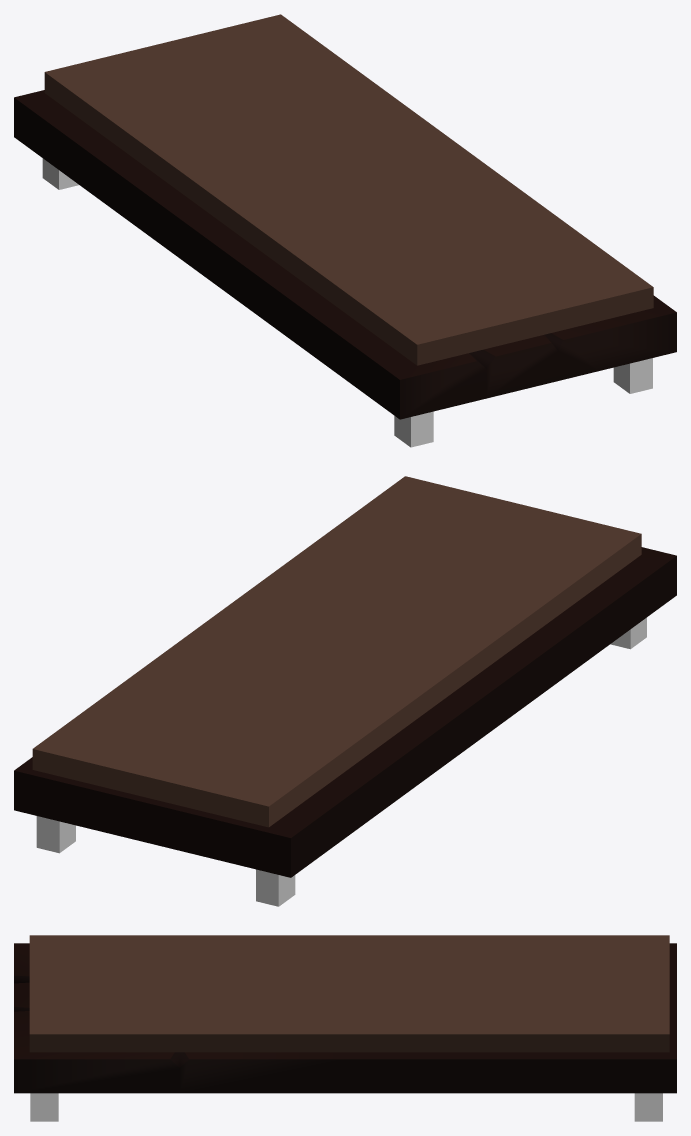
Rendered from bed.fbx.
3 views of the same model, one above another, from view 1: azimuth 30°, elevation 25°; view 2: azimuth 150°, elevation 25°; view 3: azimuth 270°, elevation 25° (orthographic). The views are drawn at different scales.
Parts seen in each view (by area): view 1: pCube8, pCube3, pCube5, pCube4; view 2: pCube8, pCube3, pCube7, pCube6; view 3: pCube8, pCube3, pCube4, pCube7.
Boxes of the visible parts, box(x1,y1,x2,y2) form: pCube8: box(44, 14, 653, 365); pCube3: box(14, 90, 676, 419); pCube5: box(394, 411, 433, 447); pCube4: box(613, 358, 652, 393); pCube8: box(32, 476, 641, 827); pCube3: box(14, 547, 676, 877); pCube7: box(36, 816, 75, 853); pCube6: box(256, 869, 295, 906); pCube8: box(29, 935, 669, 1052); pCube3: box(14, 943, 676, 1093); pCube4: box(30, 1093, 58, 1121); pCube7: box(634, 1093, 662, 1121).
Size of the model in its own units: 4.76 by 1.67 by 11.48.
